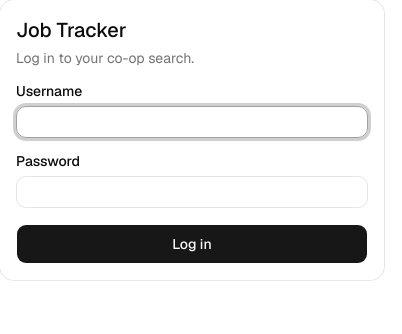
Scenario: LoginForm › shows the server's message when the password is wrong
Type "paulina" into the field labelled "Username". click: (192, 122)
box: [16,106,368,138]
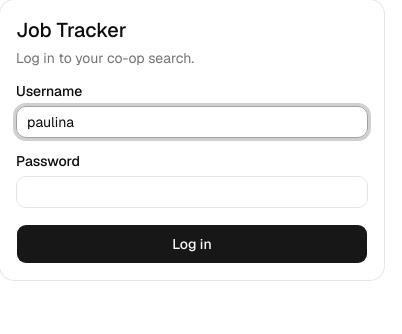
Type "secret" into the password field labelled "Password". click: (192, 192)
box: [16,176,368,208]
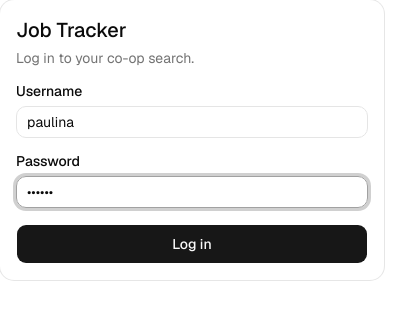
Click the button "Log in". click: (192, 244)
box: [16,224,368,264]
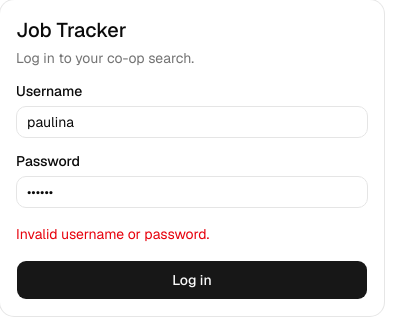
Expected: the button "Log in" is enabled, [16,260,368,300]
Expected: the message reads "Invalid username or password.", [16,225,209,243]
